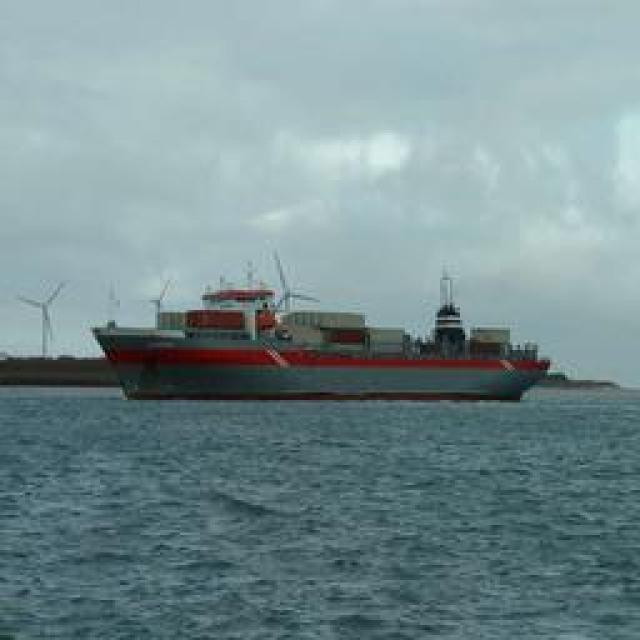CIV_Ship: (95, 261, 553, 404)
